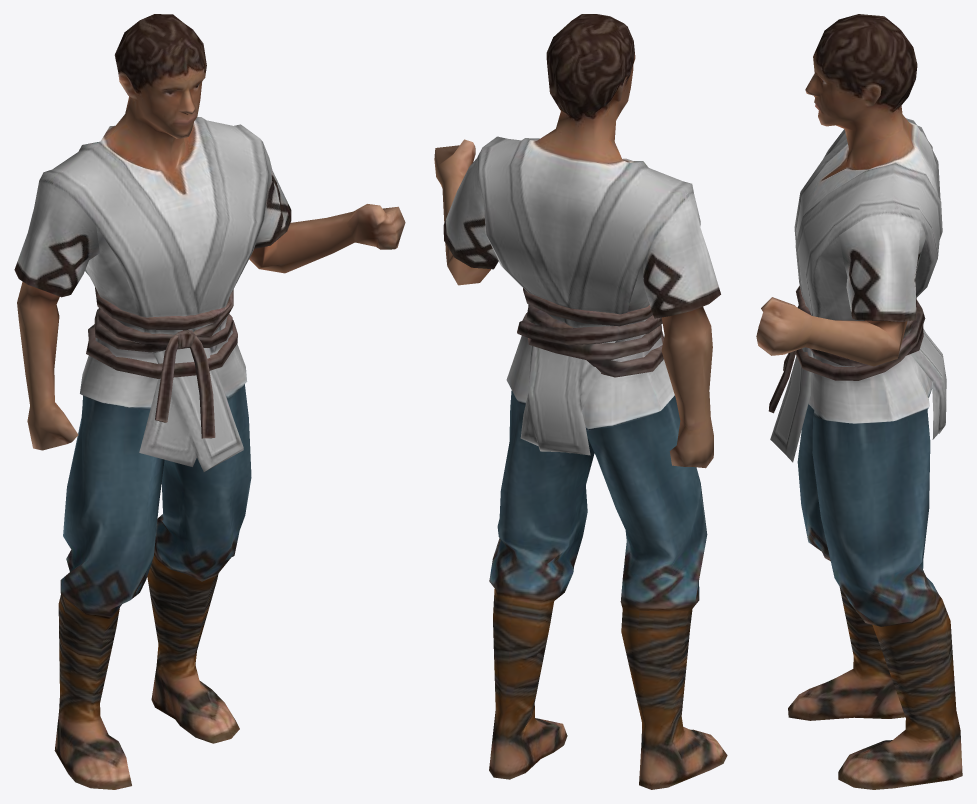
File: body-base.glb
The picture shows the model from 3 angles, left to right: view 1: azimuth 30°, elevation 25°; view 2: azimuth 150°, elevation 25°; view 3: azimuth 270°, elevation 25°; orthographic projection.
Bounding box in the file's own units: 0.9865 × 2.07 × 0.5265.
1 material, 1 textured.
